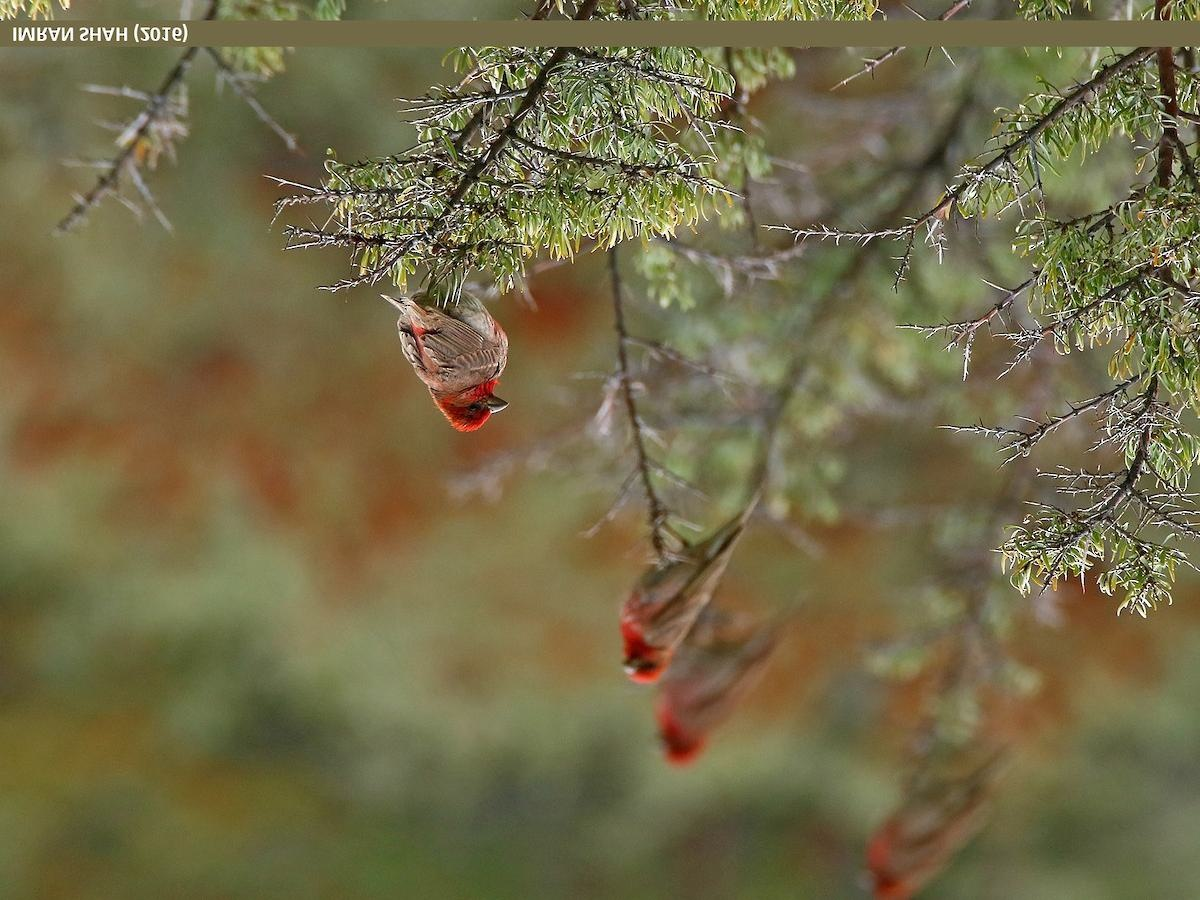rosefinch: (600, 506, 739, 691), (386, 273, 516, 442)
